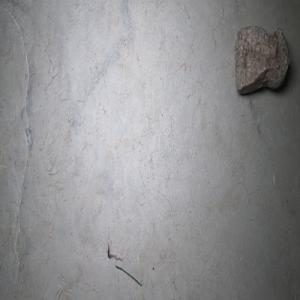Rock: (233, 25, 290, 94)
